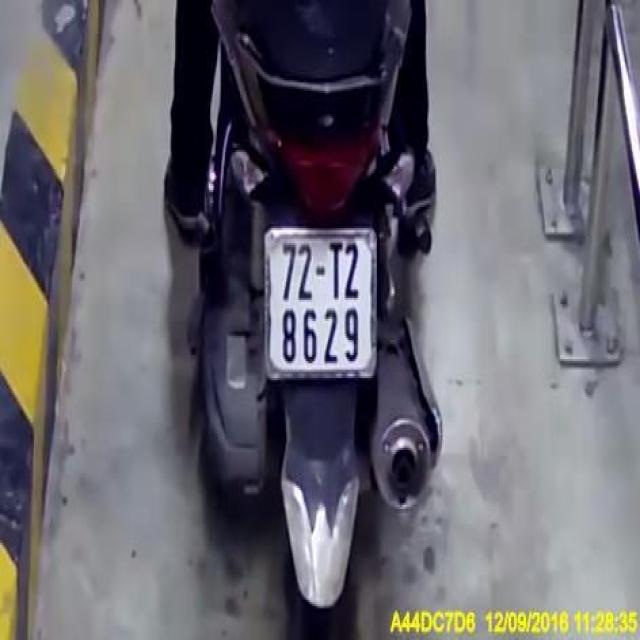LP: (263, 225, 378, 383)
